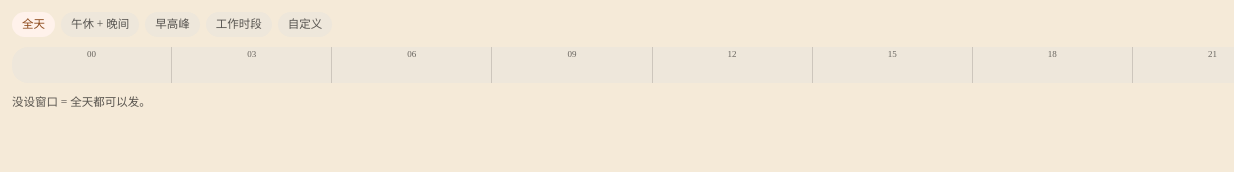
Test: WindowEditor（P14.B4：预设药丸是主路径，自定义段默认收起） › 点一枚预设药丸：直接把值换成那个预设，不用先点自定义
Click the tab with test id "window-preset-早高峰" at (173, 25), box [145,12,200,37]
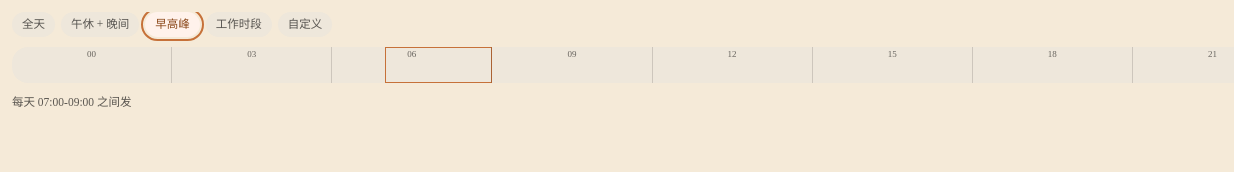
Expected: the text with test id "window-preview" shows "07:00-09:00", [12,96,132,108]
